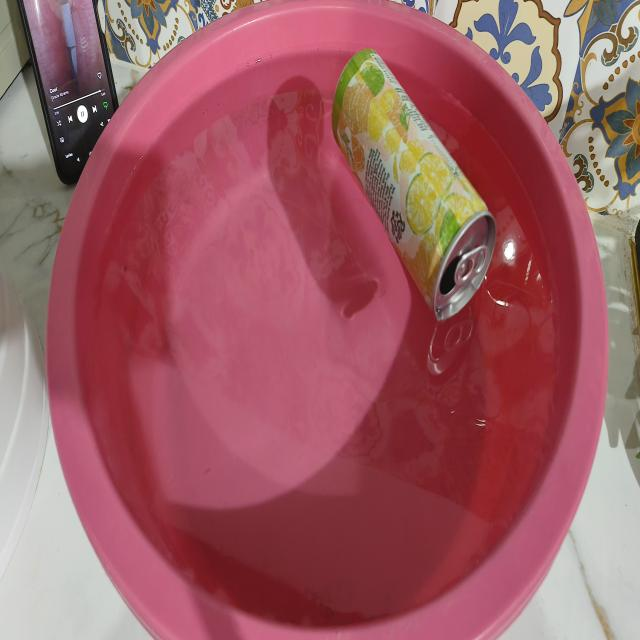Aluminum Can: (314, 34, 516, 358)
